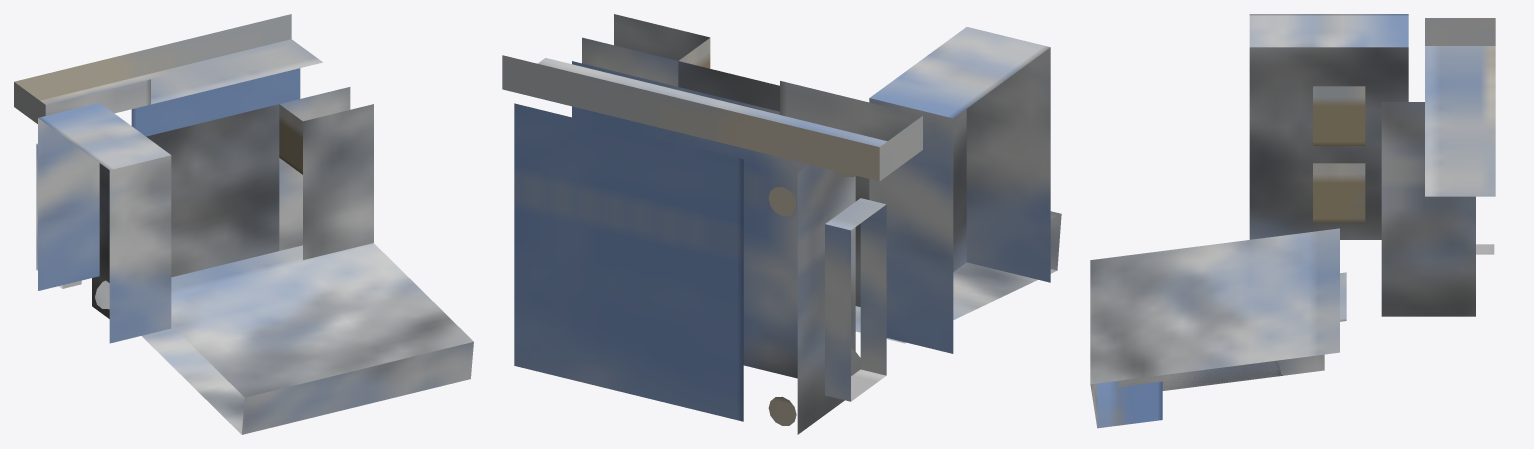
File: section-2.obj
3 views of the same model, side by side, from view 1: azimuth 30°, elevation 25°; view 2: azimuth 150°, elevation 25°; view 3: azimuth 270°, elevation 25° (orthographic). The views are drawn at different scales.
Size of the model in its own units: 0.9123 by 0.7142 by 1.04.
